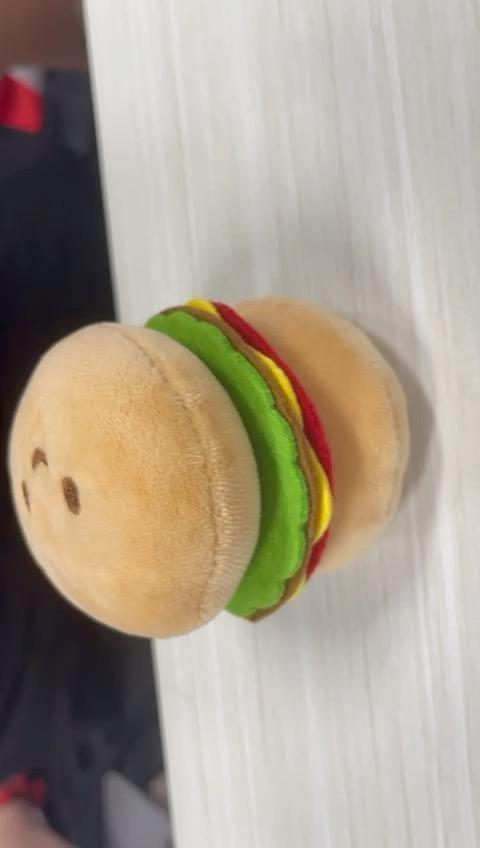hamburger: (9, 296, 411, 637)
